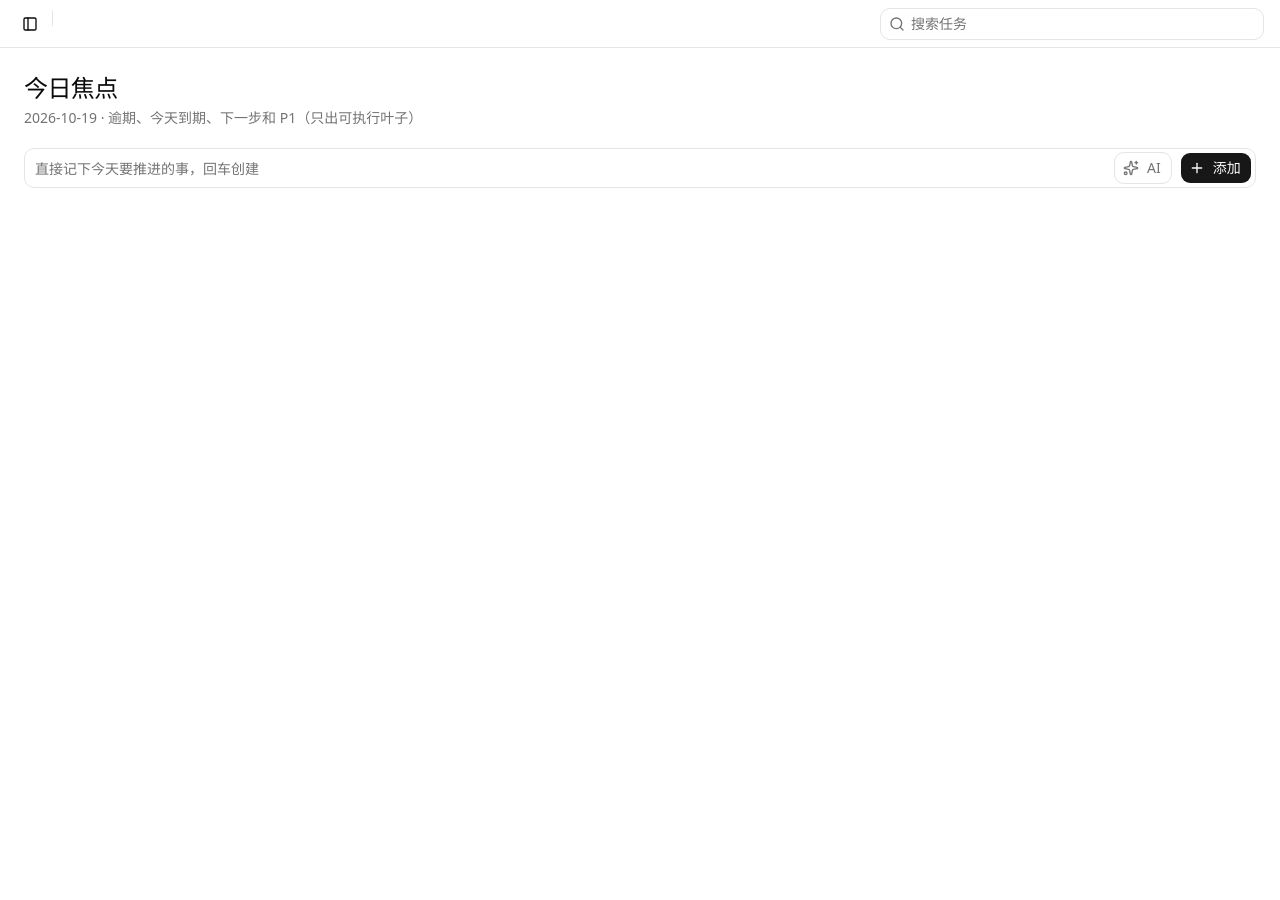
Test: creating tasks while /api/projects is pending (#101) › 今日焦点: POST has no projectId; task lands in today focus (inbox project), visible right away
This screenshot has width=1280, height=900.
Type "冷启动今日任务" into the field with placeholder "直接记下今天要推进的事，回车创建" at (570, 168), box [25, 152, 1114, 184]
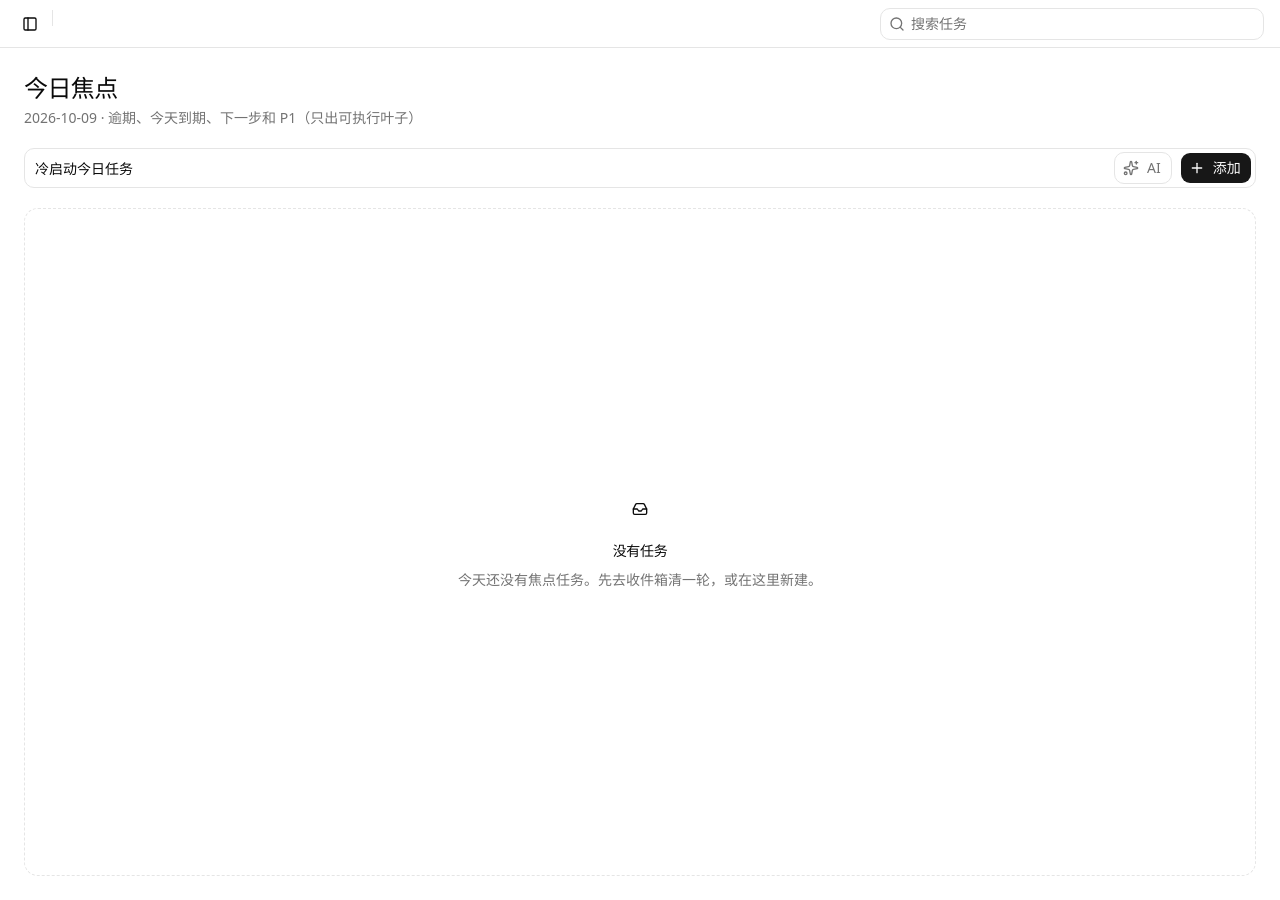
Submit the form with placeholder "直接记下今天要推进的事，回车创建", box [24, 148, 1256, 188]
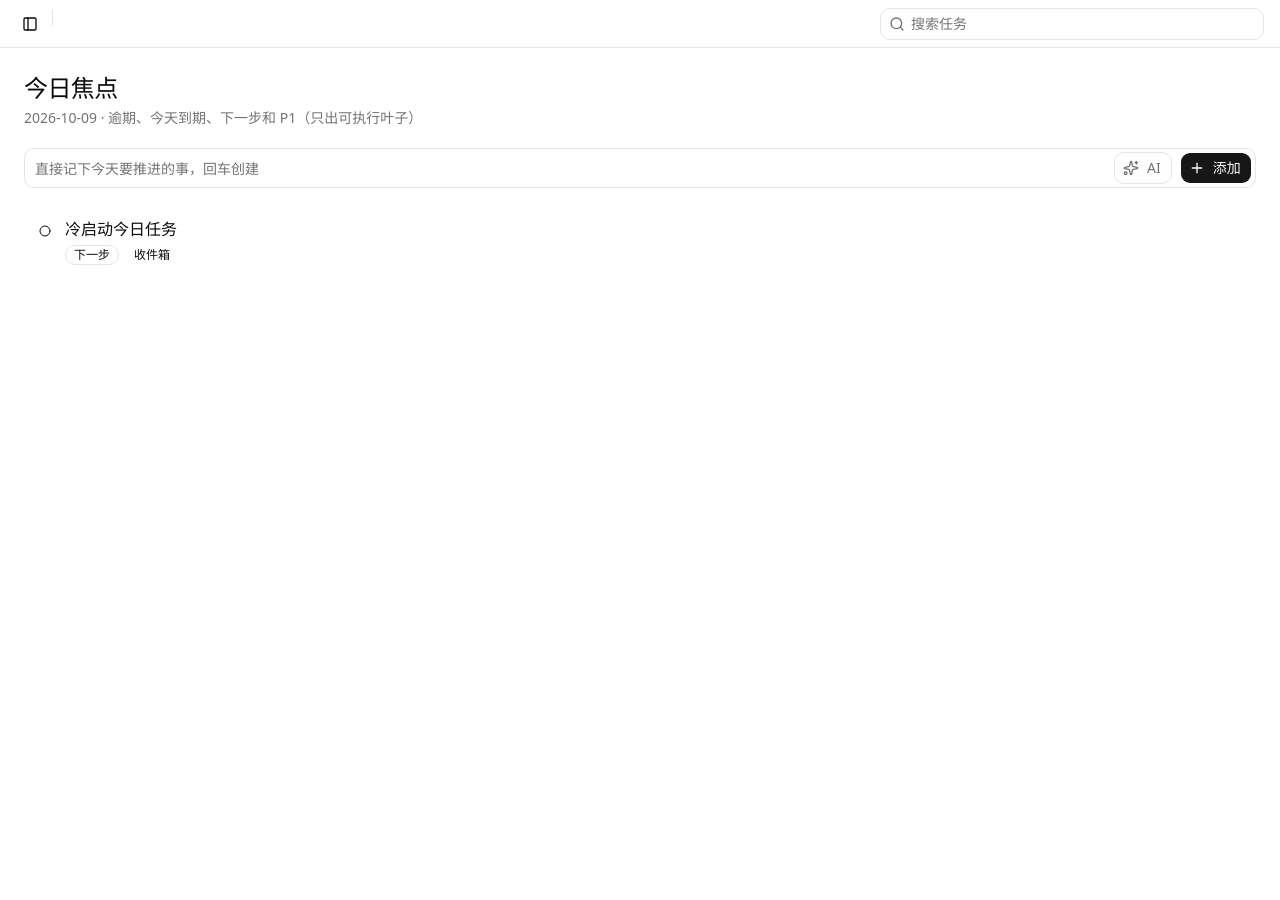
Check: the text "冷启动今日任务" is shown, box [65, 217, 177, 241]
